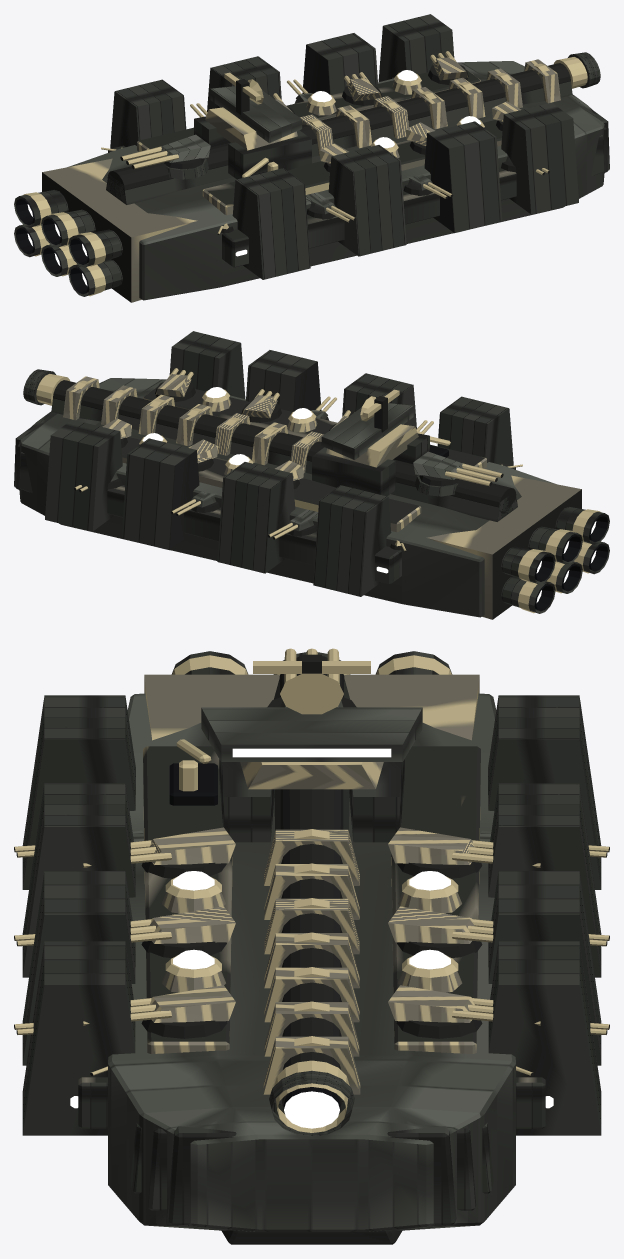
Rendered from battleship.glb.
3 renders of one model, top to bottom at view 1: azimuth 30°, elevation 25°; view 2: azimuth 150°, elevation 25°; view 3: azimuth 270°, elevation 25°, orthographic. The views are drawn at different scales.
Visible parts, largest first — view 1: hull_body, weapon_mounts, engine_block, sensor_tower, shield_domes; view 2: hull_body, weapon_mounts, engine_block, sensor_tower, shield_domes; view 3: hull_body, weapon_mounts, sensor_tower, engine_block, shield_domes.
Part boxes in pixels (left/top/right/bottom): hull_body: left=67, top=14, right=609, bottom=300; weapon_mounts: left=101, top=51, right=600, bottom=234; engine_block: left=14, top=158, right=197, bottom=302; sensor_tower: left=194, top=72, right=311, bottom=179; shield_domes: left=306, top=70, right=484, bottom=157; hull_body: left=14, top=331, right=556, bottom=617; weapon_mounts: left=23, top=368, right=522, bottom=551; engine_block: left=426, top=475, right=609, bottom=619; sensor_tower: left=312, top=389, right=429, bottom=496; shield_domes: left=139, top=387, right=317, bottom=474; hull_body: left=22, top=693, right=601, bottom=1244; weapon_mounts: left=14, top=648, right=609, bottom=1136; sensor_tower: left=201, top=654, right=422, bottom=842; engine_block: left=144, top=651, right=479, bottom=740; shield_domes: left=161, top=871, right=462, bottom=992.
Size of the model in its own units: 60 by 16.55 by 30.65.
Materials: 1 (1 with a texture image).
